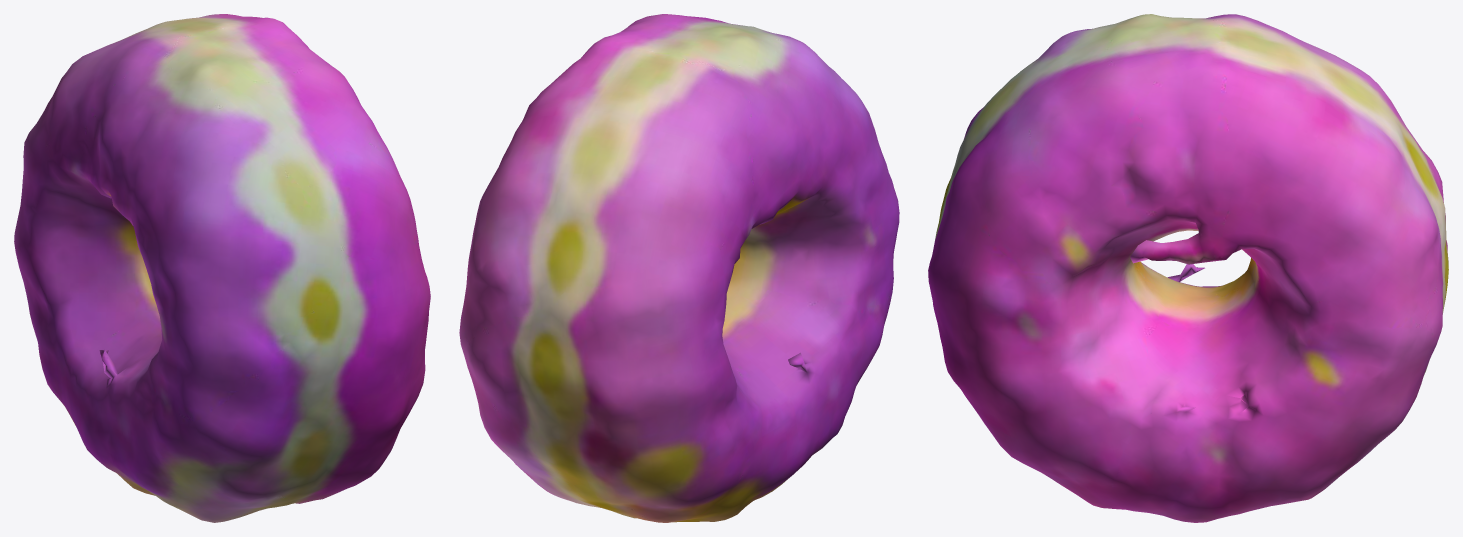
File: A_pink_doughnut_0407153350_preview.fbx
3 renders of one model, left to right at view 1: azimuth 30°, elevation 25°; view 2: azimuth 150°, elevation 25°; view 3: azimuth 270°, elevation 25°, orthographic.
Parts seen in each view (by area): view 1: Mesh1; view 2: Mesh1; view 3: Mesh1.
Part boxes in pixels (left/top/right/bottom): Mesh1: left=14, top=14, right=430, bottom=522; Mesh1: left=459, top=14, right=899, bottom=522; Mesh1: left=928, top=14, right=1448, bottom=522.
Size of the model in its own units: 69.82 by 119 by 120.
Materials: 1 (1 with a texture image).
